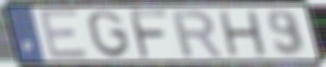9: (266, 9, 307, 59)
E: (36, 8, 92, 62)
F: (126, 7, 171, 61)
G: (85, 9, 133, 60)
H: (216, 9, 271, 59)
R: (169, 9, 225, 59)
